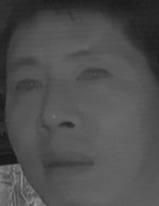eye: (74, 64, 116, 88), (11, 75, 48, 95)
mouth: (38, 146, 97, 180)
